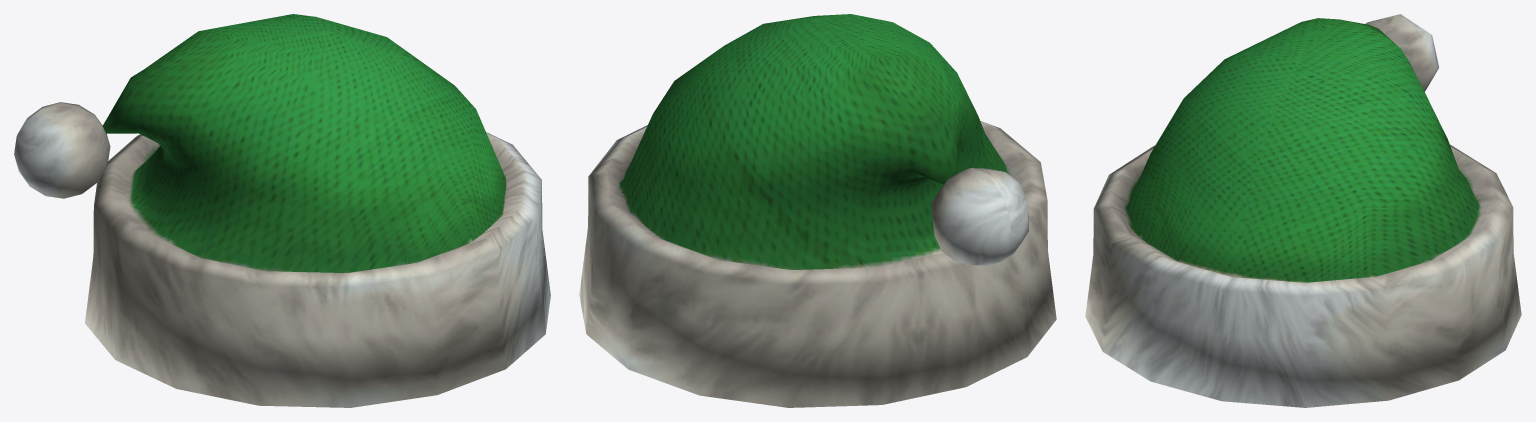
Rendered from M_SantahatA_2.glb.
3 views of the same model, side by side, from view 1: azimuth 30°, elevation 25°; view 2: azimuth 150°, elevation 25°; view 3: azimuth 270°, elevation 25° (orthographic). The views are drawn at different scales.
Parts seen in each view (by area): view 1: SM_SantahatA; view 2: SM_SantahatA; view 3: SM_SantahatA.
Part boxes in pixels (x1,y1,x2,y2): SM_SantahatA: (14, 14, 550, 407); SM_SantahatA: (579, 14, 1056, 407); SM_SantahatA: (1085, 14, 1521, 407).
Bounding box in the file's own units: 0.5337 × 0.3139 × 0.4804.
Materials: 1 (1 with a texture image).
